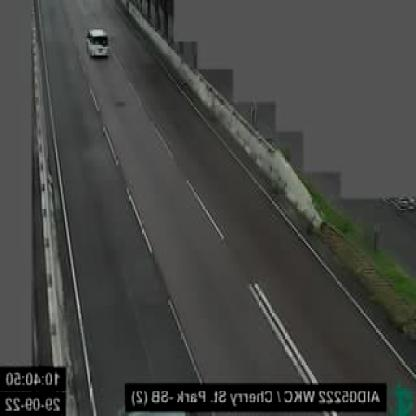Car: (87, 28, 111, 57)
